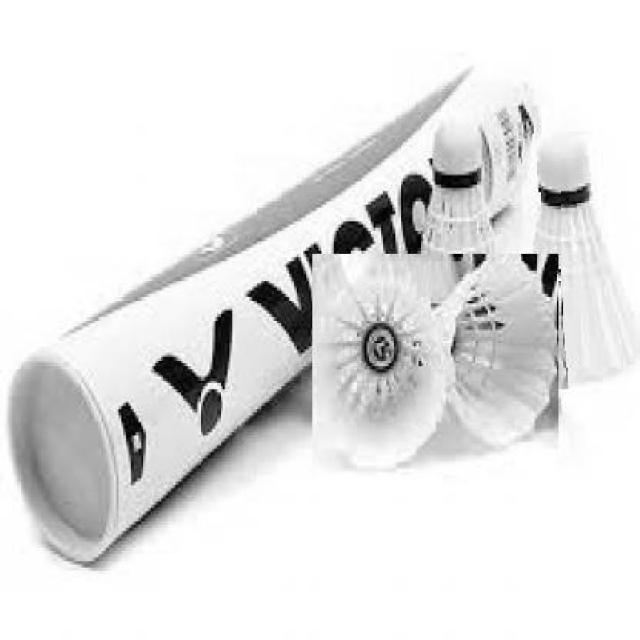Shuttlecock: (312, 254, 558, 475), (411, 269, 563, 482), (523, 134, 640, 389)
